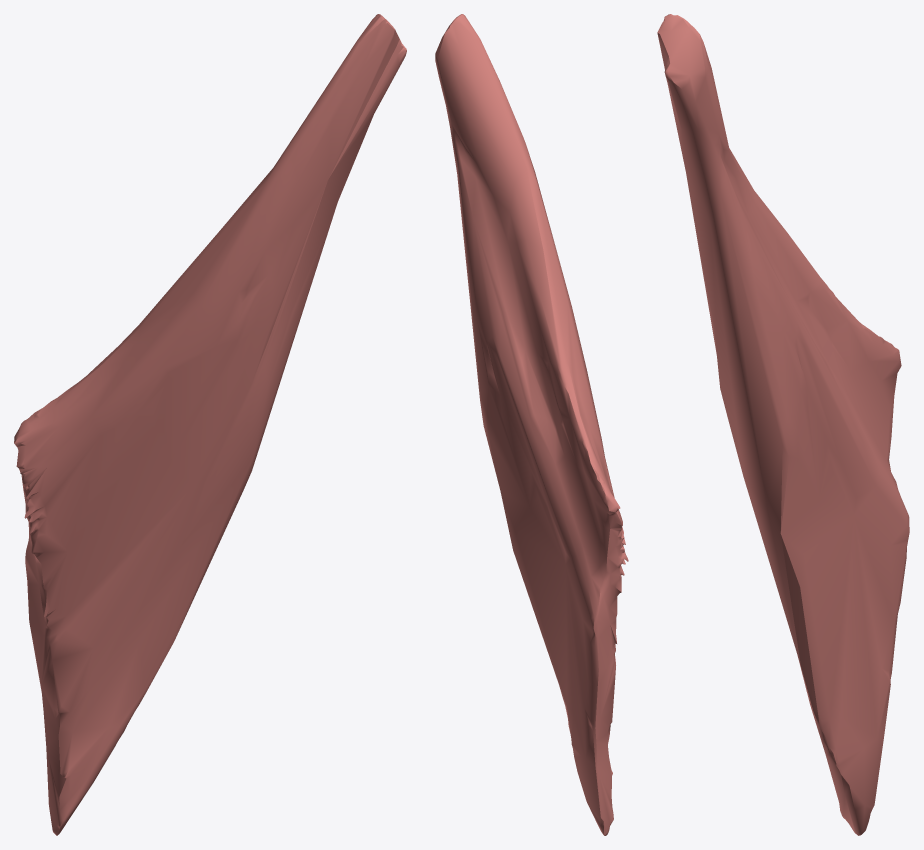
File: fma22452_fj1401.glb
3 renders of one model, left to right at view 1: azimuth 30°, elevation 25°; view 2: azimuth 150°, elevation 25°; view 3: azimuth 270°, elevation 25°, orthographic. The views are drawn at different scales.
Parts seen in each view (by area): view 1: FMA22452_FJ1401; view 2: FMA22452_FJ1401; view 3: FMA22452_FJ1401.
Boxes of the visible parts, left/top/right/bottom form: FMA22452_FJ1401: left=14, top=14, right=406, bottom=835; FMA22452_FJ1401: left=435, top=14, right=628, bottom=835; FMA22452_FJ1401: left=657, top=14, right=909, bottom=835.
Bounding box in the file's own units: 0.0754 × 0.1968 × 0.0468.
